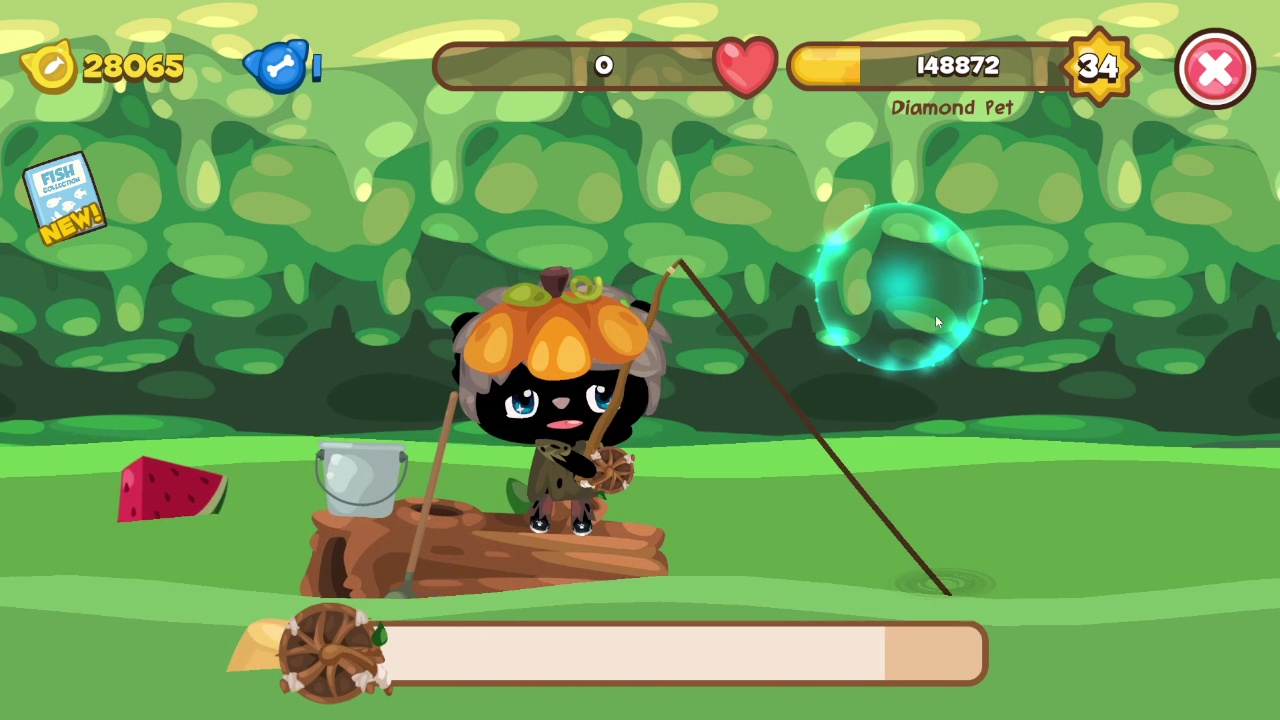point: (813, 199, 986, 376)
